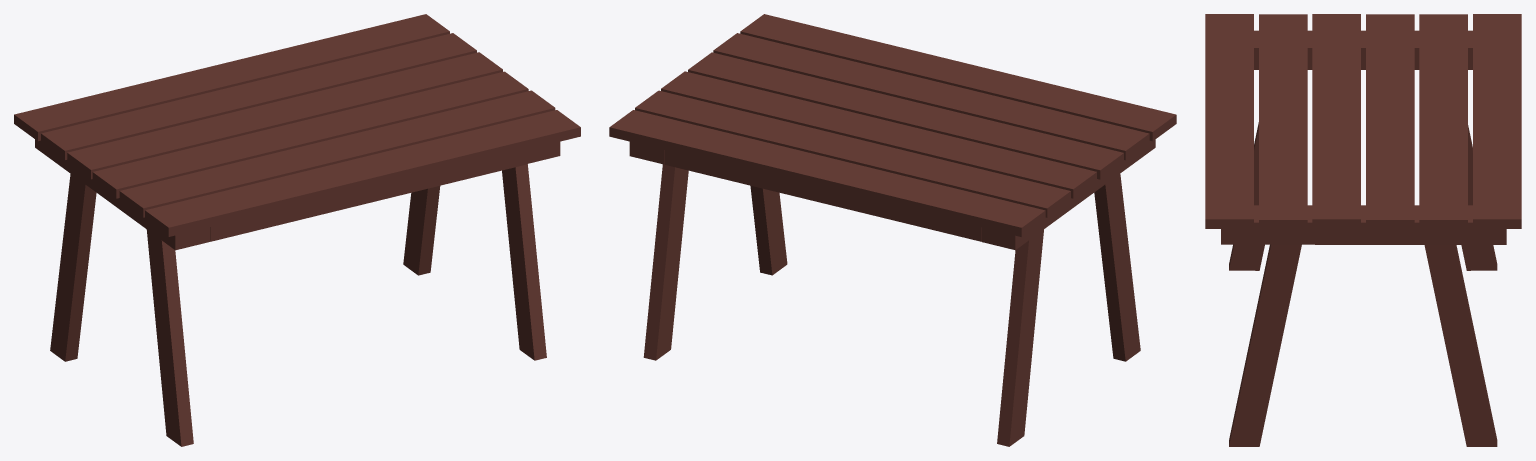
The model's file is table_straight.fbx.
The picture shows the model from 3 angles, left to right: view 1: azimuth 30°, elevation 25°; view 2: azimuth 150°, elevation 25°; view 3: azimuth 270°, elevation 25°; orthographic projection. The views are drawn at different scales.
Visible parts, largest first — view 1: table; view 2: table; view 3: table.
Part boxes in pixels (<box>): table: <box>14,14,580,446</box>; table: <box>609,14,1176,446</box>; table: <box>1205,14,1521,446</box>.
Size of the model in its own units: 200 by 108 by 130.
